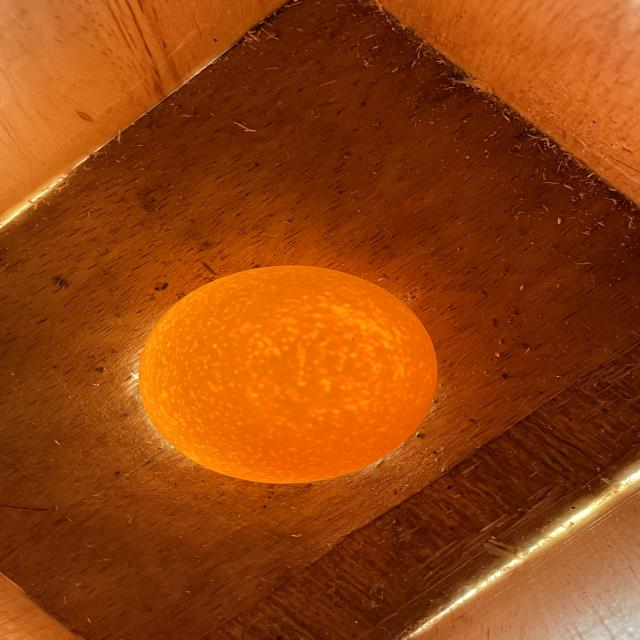infertile: (138, 266, 437, 484)
